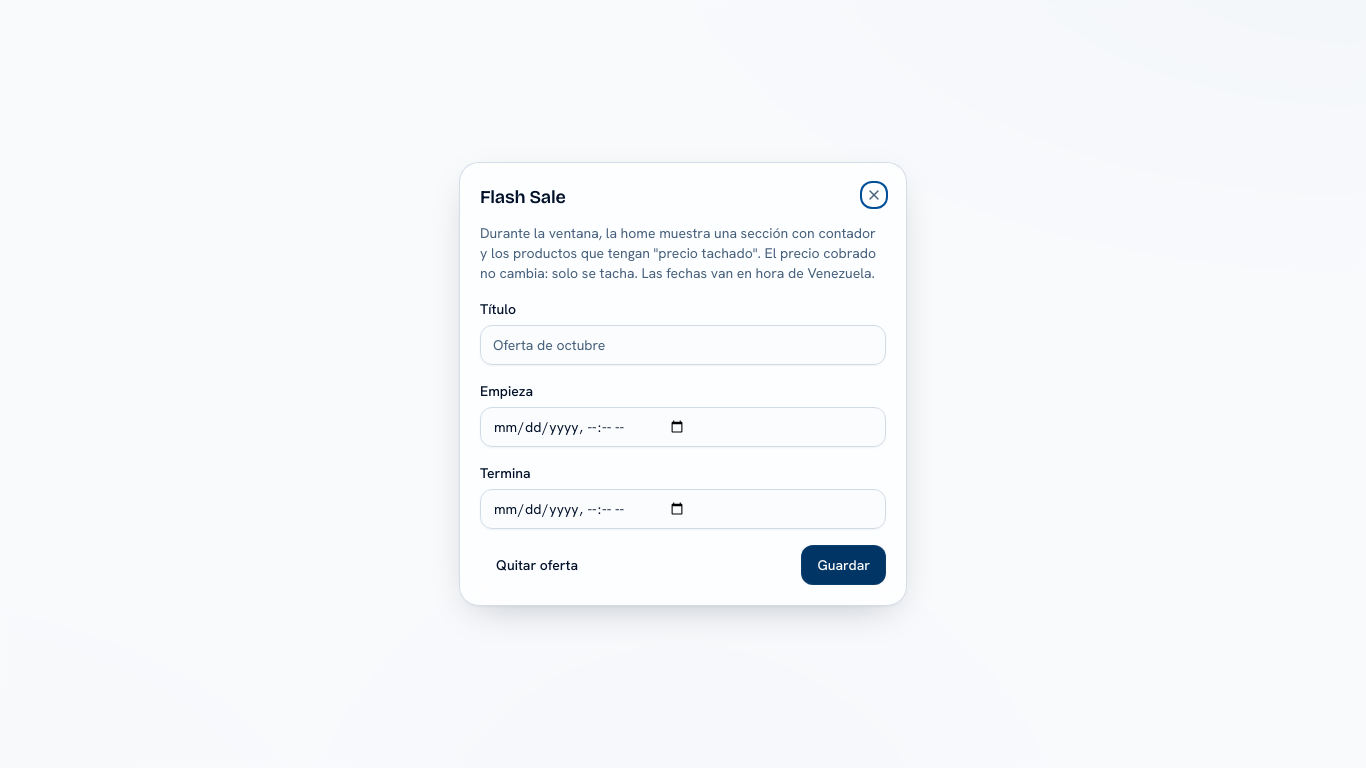
Test: FlashSaleDialog › no guarda si el fin no es posterior al inicio
The image size is (1366, 768).
Step 1. Type "2026-10-20T18:00" into the field named "empieza" → (683, 427), box [480,407,886,447]
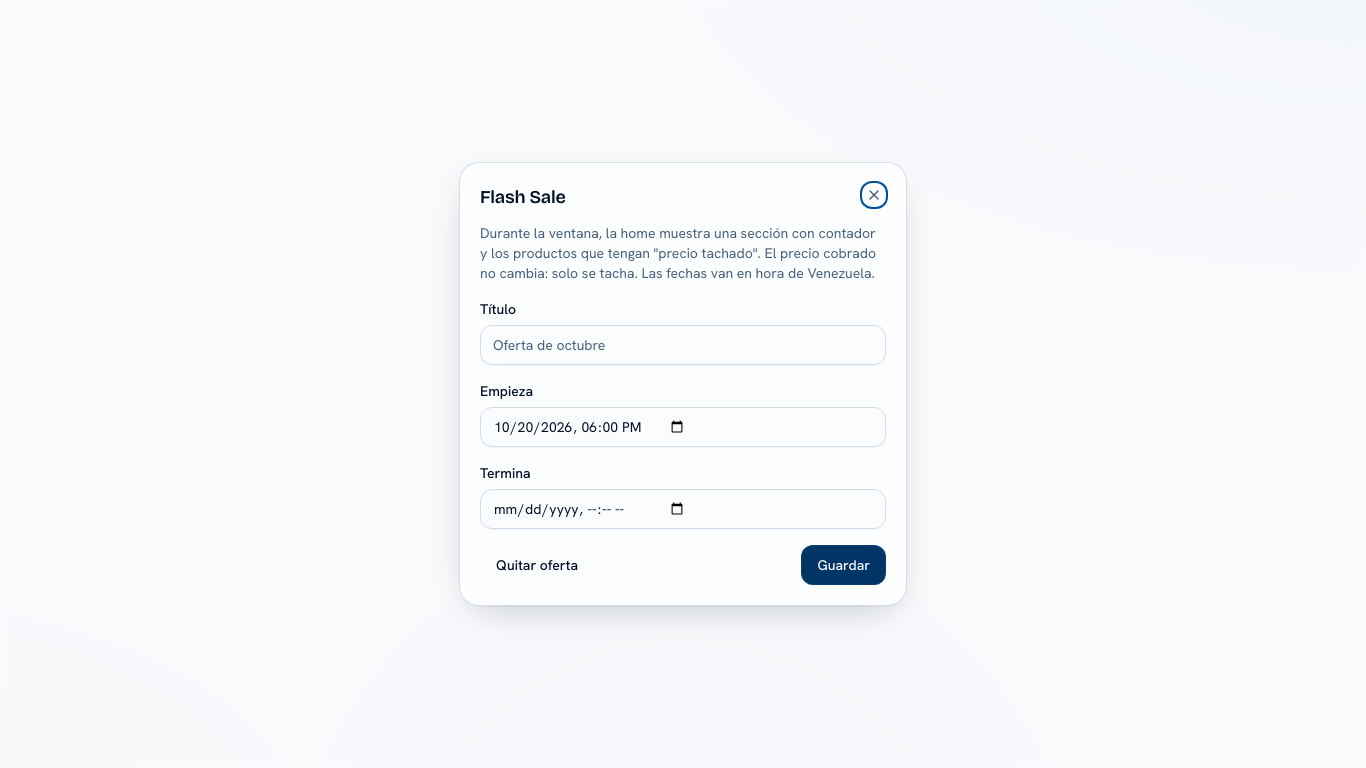
Step 2. Type "2026-10-20T18:00" into the field named "termina" → (683, 509), box [480,489,886,529]
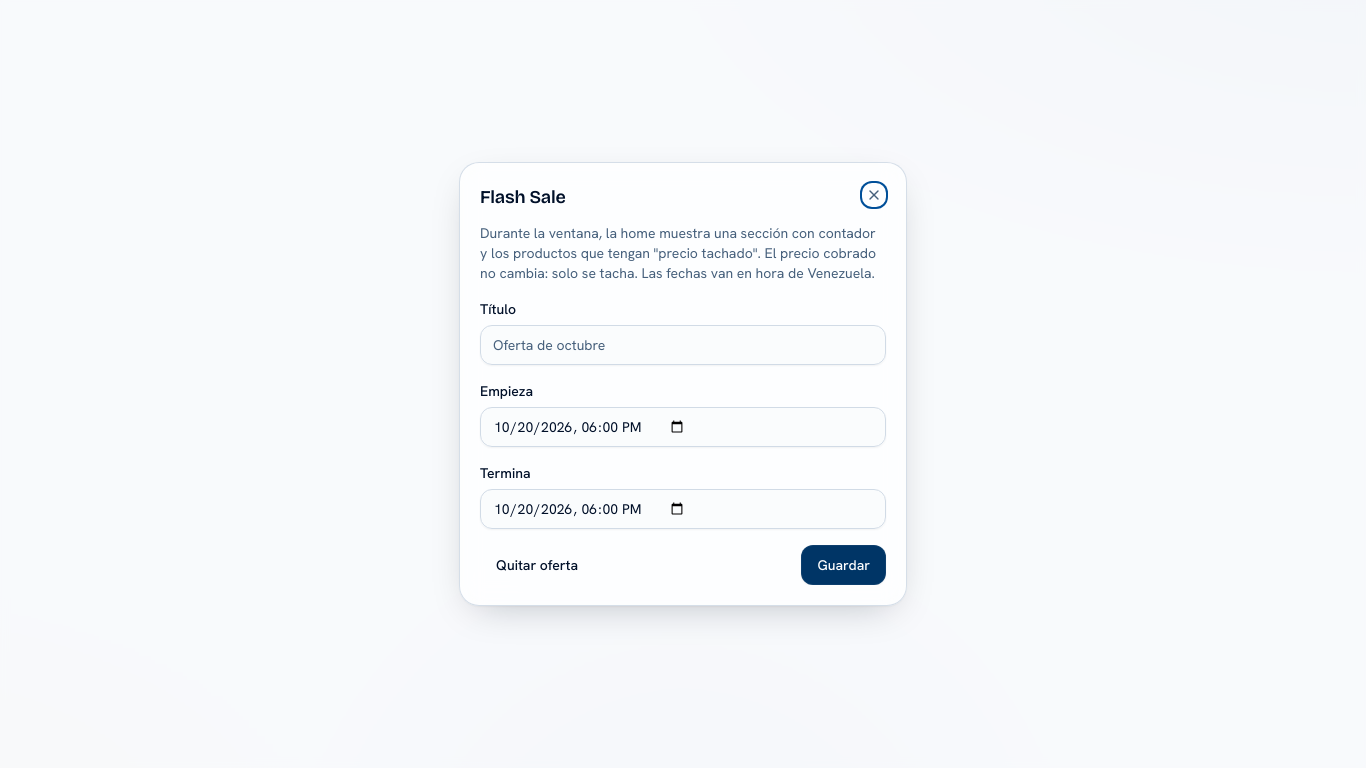
Step 3. Click the button "Guardar" → click(844, 565), box [802,545,886,585]
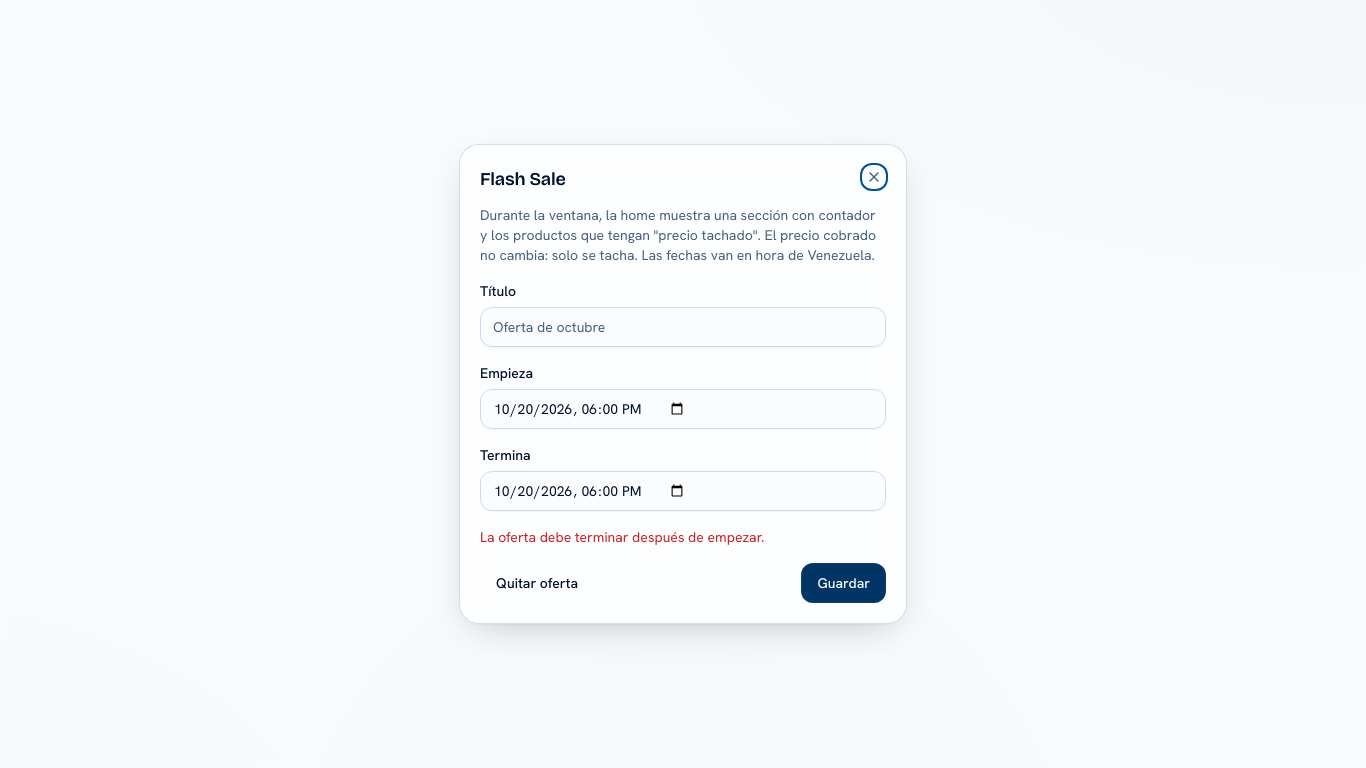
Result: the text "La oferta debe terminar después de empezar." is shown at [480,528,764,546]
